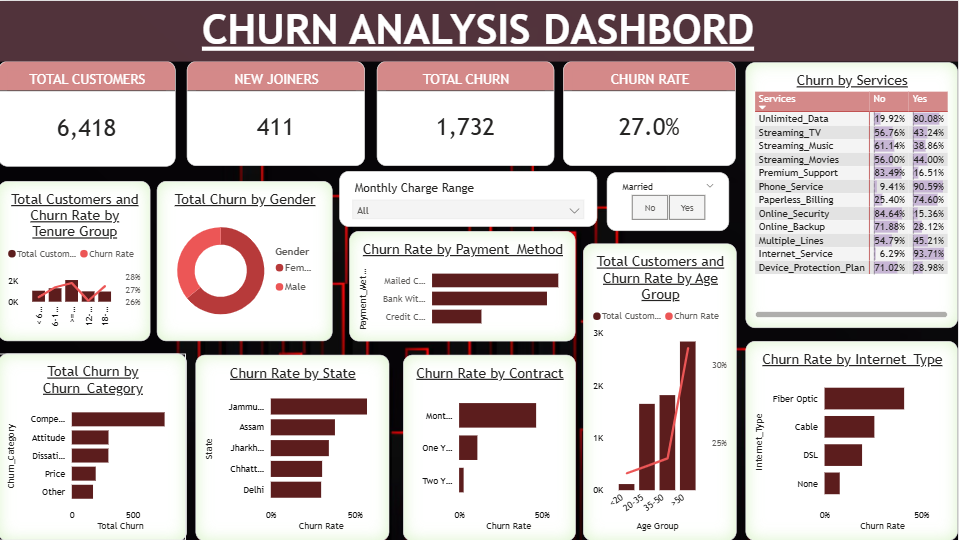

This screenshot's page, from the dashboard's own definition file:
{"tool":"powerbi","page":{"name":"Churn Analysis Dashboard","canvas":[1280,720],"ordinal":0},"visuals":[{"type":"card","title":"TOTAL CUSTOMERS","fields":{"Values":["Tbl_Measure.Total Customers"]},"box":[0,79.6,236.5,141.2],"z":0},{"type":"card","title":"TOTAL CHURN","fields":{"Values":["Tbl_Measure.Total Churn"]},"box":[504.3,80.8,236.5,139.9],"z":1000},{"type":"card","title":"NEW JOINERS","fields":{"Values":["Tbl_Measure.New Joiners"]},"box":[250.9,80.8,237.7,139.9],"z":2000},{"type":"card","title":"CHURN RATE","fields":{"Values":["Tbl_Measure.Churn Rate"]},"box":[754,79.6,230.4,139.9],"z":3000},{"type":"donutChart","fields":{"Category":["prod_Churn.Gender"],"Y":["Tbl_Measure.Total Churn"]},"box":[212.3,240.1,234,213.5],"z":4000},{"type":"lineStackedColumnComboChart","fields":{"Category":["Mapping_AgeGrp.Age Group"],"Y":["Tbl_Measure.Total Customers"],"Y2":["Tbl_Measure.Churn Rate"]},"box":[779.4,323.3,205.1,396.9],"z":5000},{"type":"clusteredBarChart","fields":{"Category":["prod_Churn.Payment_Method"],"Y":["Tbl_Measure.Churn Rate"]},"box":[468.1,306.4,301.6,147.2],"z":6000},{"type":"clusteredBarChart","fields":{"Category":["prod_Churn.Contract"],"Y":["Tbl_Measure.Churn Rate"]},"box":[539.3,471.7,230.4,248.5],"z":7000},{"type":"lineStackedColumnComboChart","fields":{"Category":["Mapping_TenureGrp.Tenure Group"],"Y":["Tbl_Measure.Total Customers"],"Y2":["Tbl_Measure.Churn Rate"]},"box":[0,240,203.3,213.3],"z":8000},{"type":"clusteredBarChart","fields":{"Category":["prod_Churn.State"],"Y":["Tbl_Measure.Churn Rate"]},"box":[263,471.7,258.2,248.5],"z":9000},{"type":"clusteredBarChart","fields":{"Category":["prod_Churn.Churn_Category"],"Y":["Tbl_Measure.Total Churn"]},"box":[0,470,251.7,250],"z":10000},{"type":"clusteredBarChart","fields":{"Category":["prod_Churn.Internet_Type"],"Y":["Tbl_Measure.Churn Rate"]},"box":[996.5,453.6,283.5,266.6],"z":11000},{"type":"pivotTable","title":"Churn  by Services","fields":{"Rows":["prod_services.Services"],"Columns":["prod_services.Status"],"Values":["Sum(prod_services.Churn Status)"]},"box":[997.1,81.4,282.9,354.3],"z":12000},{"type":"slicer","fields":{"Values":["prod_Churn.Monthly Charge Range"]},"box":[454.8,226.8,343.8,74.8],"z":13000},{"type":"slicer","fields":{"Values":["prod_Churn.Married"]},"box":[811.9,228,162.9,78.4],"z":14000},{"type":"textbox","box":[0,0,1280,80.8],"z":15000}]}

Visuals, with their boxes in screenshot pixels (x1, y1, x2, y2), scaled from the page's 1280x720 canvas onto the 959x540 screenshot:
"TOTAL CUSTOMERS" card: (left=0, top=60, right=177, bottom=166)
"TOTAL CHURN" card: (left=378, top=61, right=555, bottom=166)
"NEW JOINERS" card: (left=188, top=61, right=366, bottom=166)
"CHURN RATE" card: (left=565, top=60, right=738, bottom=165)
donutChart - prod_Churn.Gender x Tbl_Measure.Total Churn: (left=159, top=180, right=334, bottom=340)
lineStackedColumnComboChart - Mapping_AgeGrp.Age Group x Tbl_Measure.Total Customers: (left=584, top=242, right=738, bottom=539)
clusteredBarChart - prod_Churn.Payment_Method x Tbl_Measure.Churn Rate: (left=351, top=230, right=577, bottom=340)
clusteredBarChart - prod_Churn.Contract x Tbl_Measure.Churn Rate: (left=404, top=354, right=577, bottom=539)
lineStackedColumnComboChart - Mapping_TenureGrp.Tenure Group x Tbl_Measure.Total Customers: (left=0, top=180, right=152, bottom=340)
clusteredBarChart - prod_Churn.State x Tbl_Measure.Churn Rate: (left=197, top=354, right=390, bottom=539)
clusteredBarChart - prod_Churn.Churn_Category x Tbl_Measure.Total Churn: (left=0, top=352, right=189, bottom=539)
clusteredBarChart - prod_Churn.Internet_Type x Tbl_Measure.Churn Rate: (left=747, top=340, right=958, bottom=539)
"Churn  by Services" pivotTable: (left=747, top=61, right=958, bottom=327)
slicer - prod_Churn.Monthly Charge Range: (left=341, top=170, right=598, bottom=226)
slicer - prod_Churn.Married: (left=608, top=171, right=730, bottom=230)
textbox: (left=0, top=0, right=958, bottom=61)
